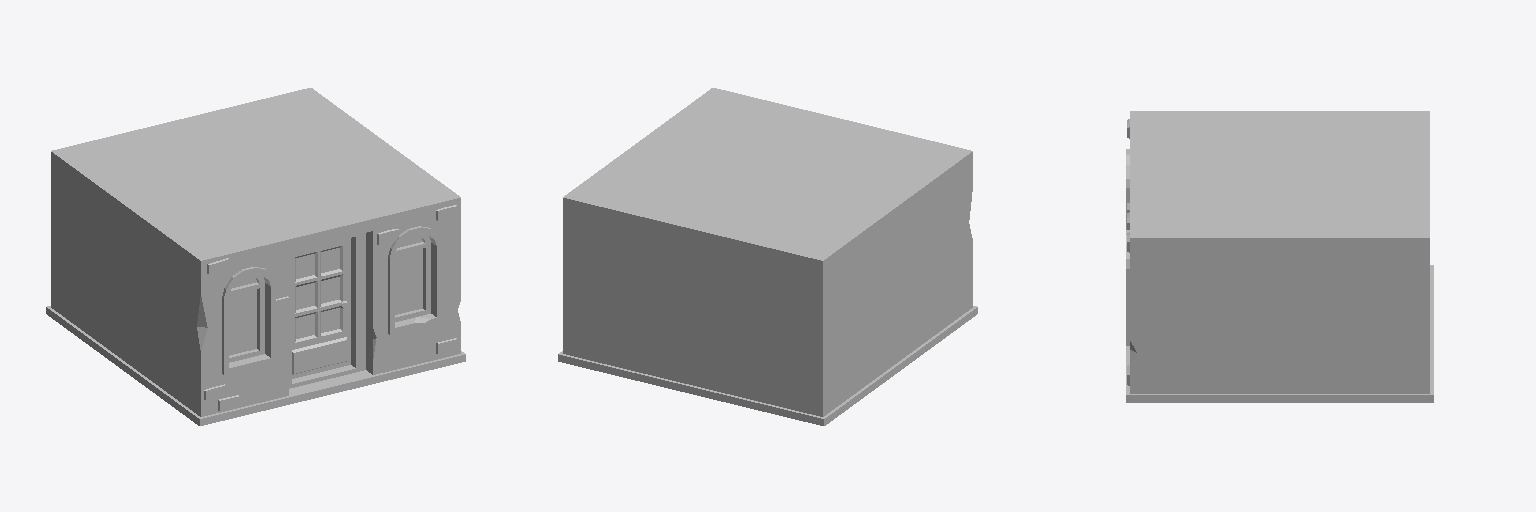
File: apartment_door_2.obj
The picture shows the model from 3 angles: view 1: azimuth 30°, elevation 25°; view 2: azimuth 150°, elevation 25°; view 3: azimuth 270°, elevation 25°; orthographic projection.
Visible parts, largest first — view 1: SM_Bld_Apartment_Door_02_Mesh.012; view 2: SM_Bld_Apartment_Door_02_Mesh.012; view 3: SM_Bld_Apartment_Door_02_Mesh.012.
Part boxes in pixels (x1,y1,x2,y2): SM_Bld_Apartment_Door_02_Mesh.012: (46, 88, 465, 425); SM_Bld_Apartment_Door_02_Mesh.012: (558, 88, 977, 425); SM_Bld_Apartment_Door_02_Mesh.012: (1126, 111, 1433, 402).
Bounding box in the file's own units: 5.11 × 3 × 5.12.